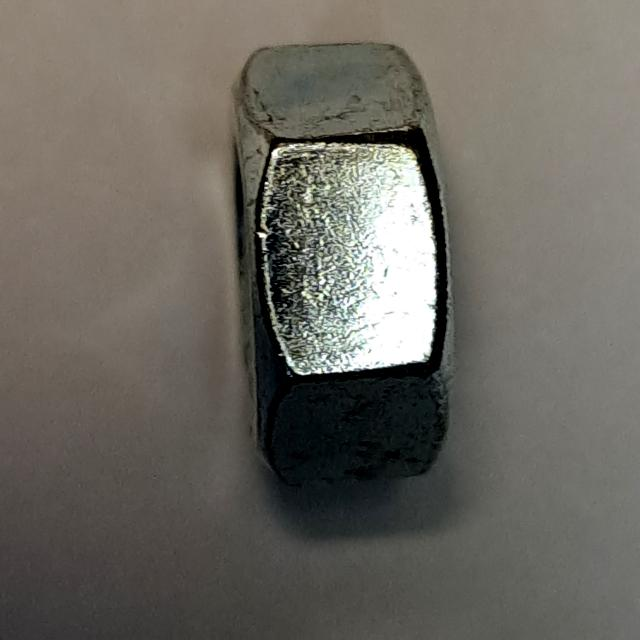Side_Excellent: (209, 30, 474, 516)
